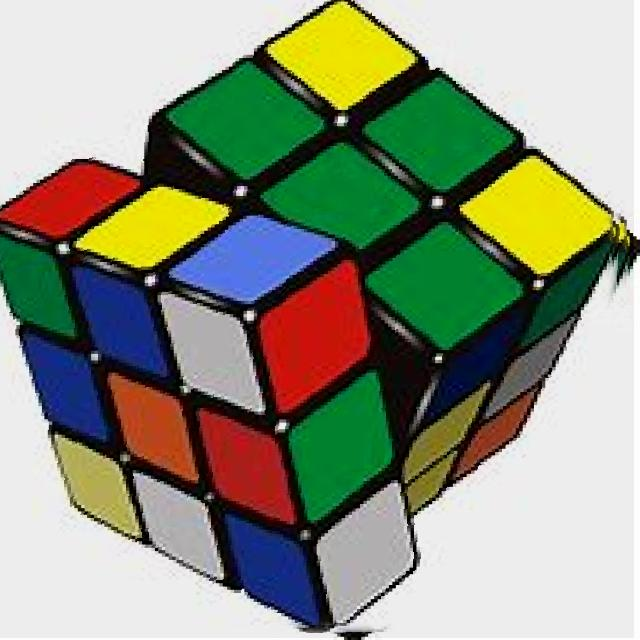cube: (6, 1, 616, 630)
